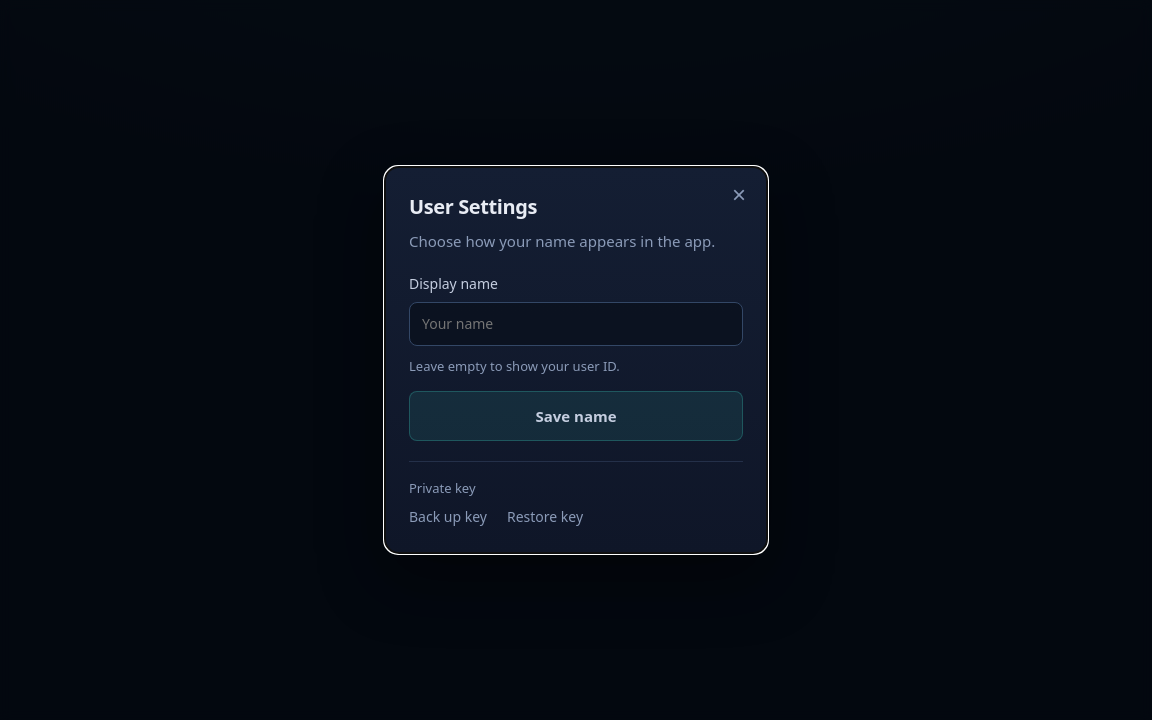
Scenario: EditNameDialog › opens the restore dialog from the Restore key button
Step 1. Click the button "Restore key" → (545, 518), box left=507, top=506, right=583, bottom=529
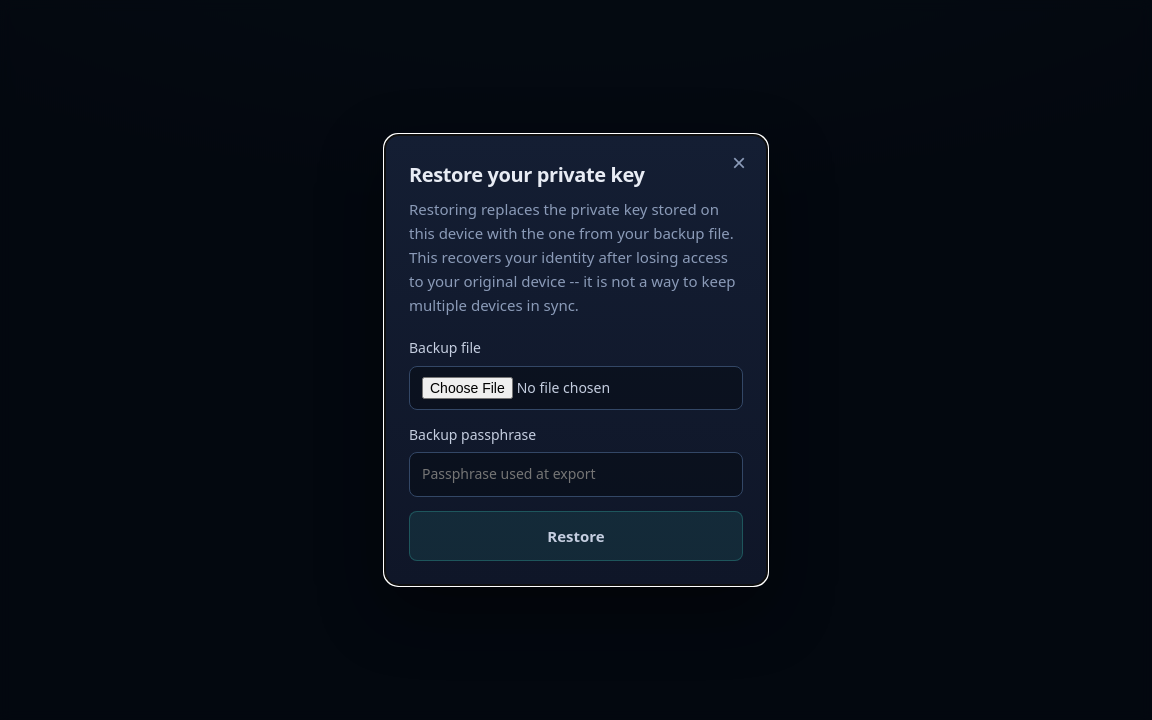
expect the heading "Restore your private key" is shown: met, box left=409, top=161, right=644, bottom=188
